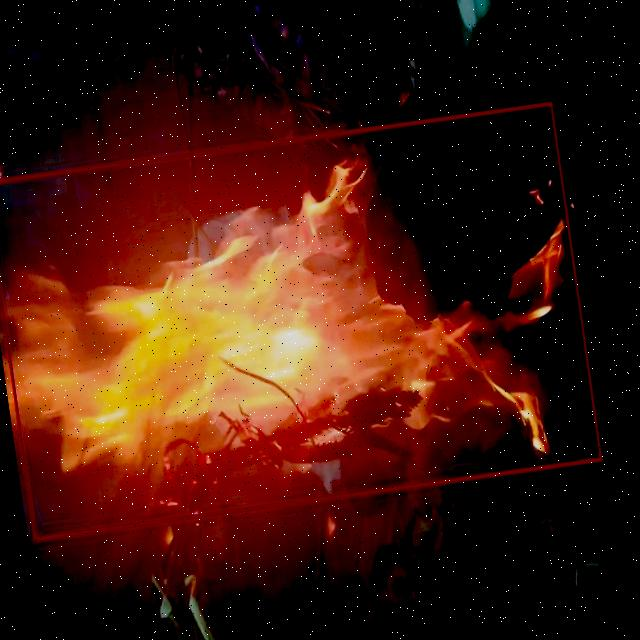fire: (0, 101, 602, 540)
